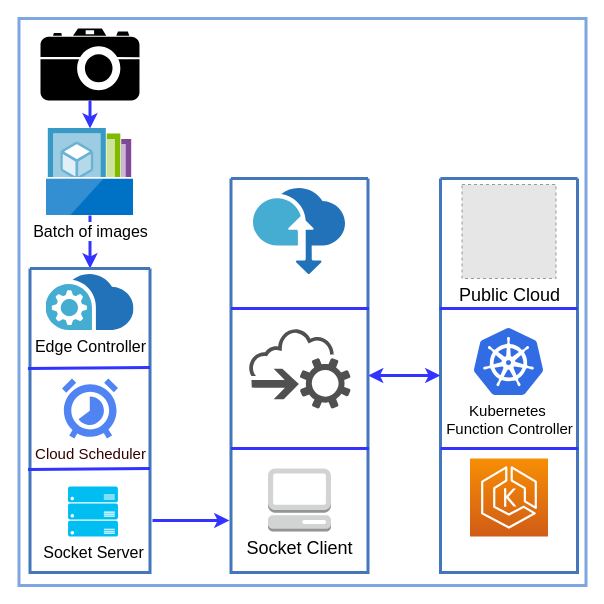
Image size: 604x604. Some labels were removed from this diagram. Grey dashed boxes stand in for pictures. The centre of each missing label's shape, as x and y in pixels:
"Edge Cloud" goes at point 299,231.
"Kubeless" goes at point 508,497.
"Requester" goes at point 299,368.
